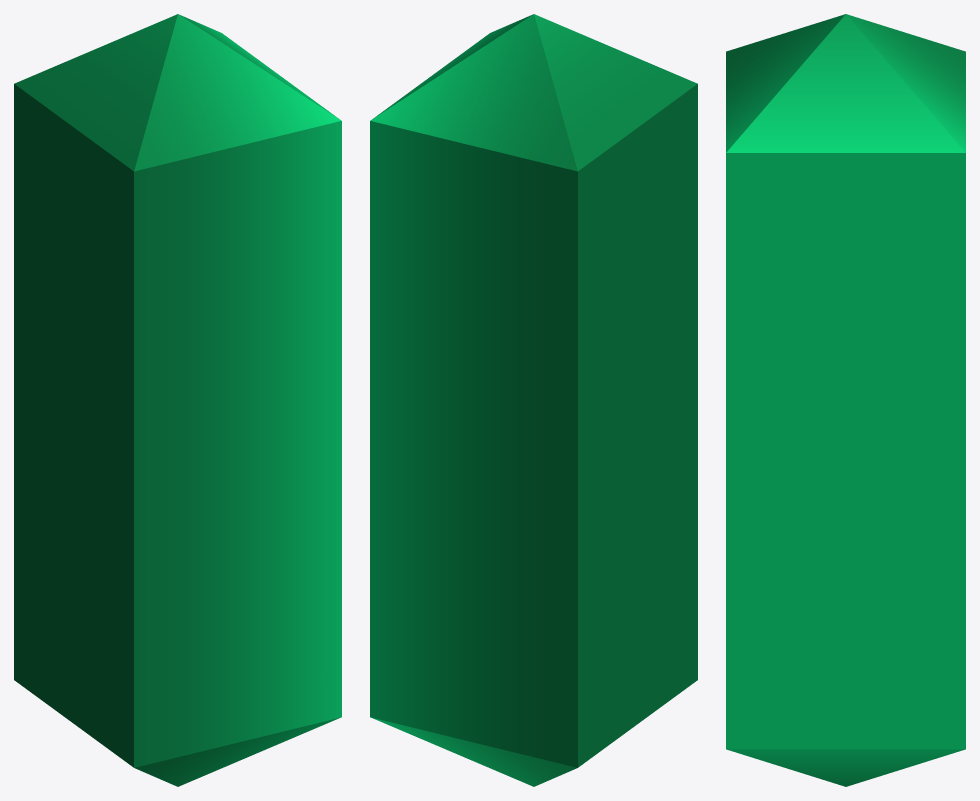
Rendered from crystal_green.glb.
3 renders of one model, left to right at view 1: azimuth 30°, elevation 25°; view 2: azimuth 150°, elevation 25°; view 3: azimuth 270°, elevation 25°, orthographic.
Visible parts, largest first — view 1: Cube; view 2: Cube; view 3: Cube.
Part boxes in pixels (x1,y1,x2,y2): Cube: (14,14,341,786); Cube: (370,14,697,786); Cube: (726,14,965,786).
Size of the model in its own units: 0.2014 by 0.716 by 0.2014.
1 material, 1 textured.
